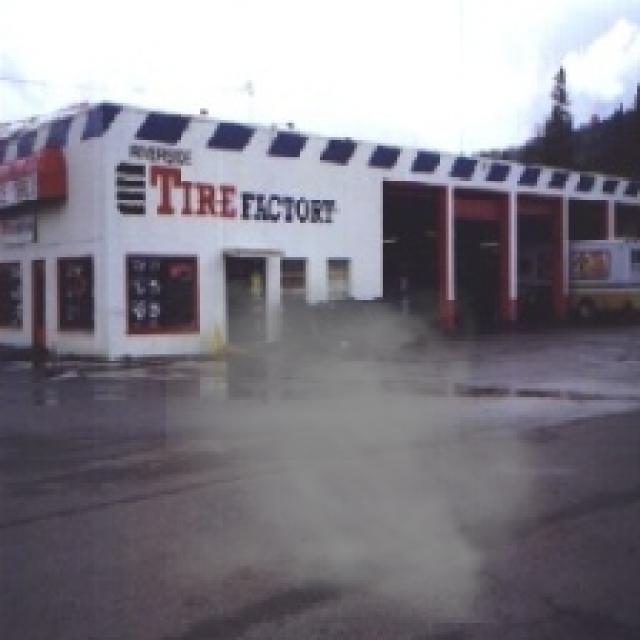Smoke: (166, 277, 563, 623)
